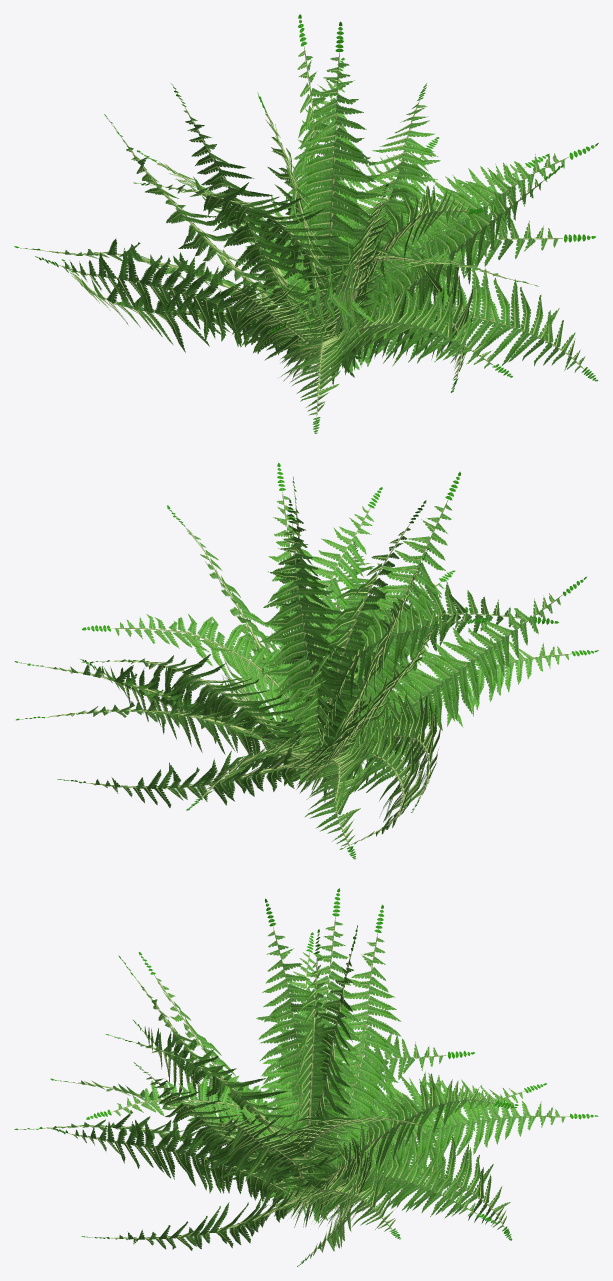
The picture shows the model from 3 angles, top to bottom: view 1: azimuth 30°, elevation 25°; view 2: azimuth 150°, elevation 25°; view 3: azimuth 270°, elevation 25°; orthographic projection. The views are drawn at different scales.
Parts seen in each view (by area): view 1: 3DGeom~2 (C-3DGeom~2_Defintion), 3DGeom~1 (C-3DGeom~1_Defintion), 3DGeom~3 (C-3DGeom~3_Defintion); view 2: 3DGeom~2 (C-3DGeom~2_Defintion), 3DGeom~1 (C-3DGeom~1_Defintion), 3DGeom~3 (C-3DGeom~3_Defintion); view 3: 3DGeom~2 (C-3DGeom~2_Defintion), 3DGeom~1 (C-3DGeom~1_Defintion), 3DGeom~3 (C-3DGeom~3_Defintion).
Boxes of the visible parts, x1,y1,x2,y2 form: 3DGeom~2 (C-3DGeom~2_Defintion): (55, 51, 585, 415); 3DGeom~1 (C-3DGeom~1_Defintion): (18, 18, 595, 432); 3DGeom~3 (C-3DGeom~3_Defintion): (14, 14, 598, 433); 3DGeom~2 (C-3DGeom~2_Defintion): (53, 496, 568, 846); 3DGeom~1 (C-3DGeom~1_Defintion): (18, 467, 594, 857); 3DGeom~3 (C-3DGeom~3_Defintion): (14, 463, 598, 859); 3DGeom~2 (C-3DGeom~2_Defintion): (52, 921, 564, 1258); 3DGeom~1 (C-3DGeom~1_Defintion): (18, 892, 591, 1264); 3DGeom~3 (C-3DGeom~3_Defintion): (14, 888, 598, 1266).
Size of the model in its own units: 2.14 by 1.49 by 2.61.
4 materials, 2 textured.
